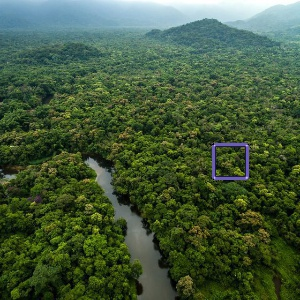square: (210, 140, 251, 182)
